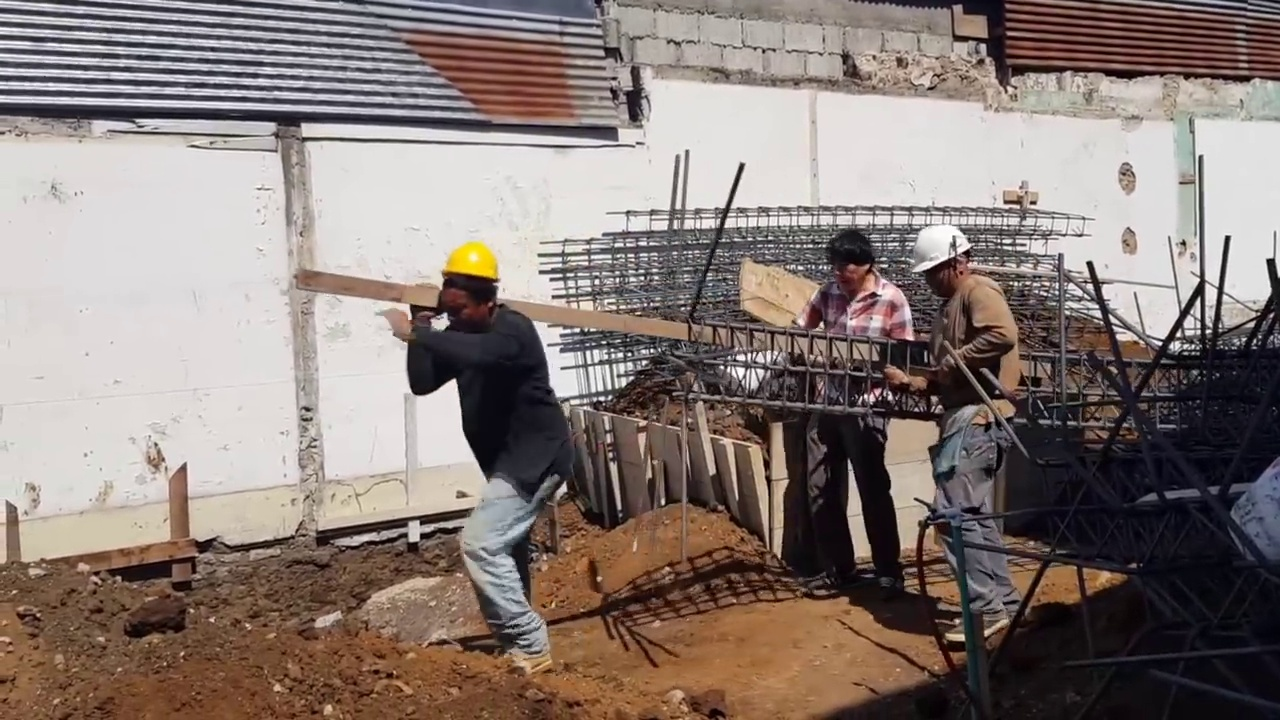helmet: (438, 239, 507, 294), (912, 222, 977, 271)
helmet-off: (828, 227, 879, 294)
helmet-on: (908, 216, 991, 308), (434, 242, 504, 332)
person: (399, 233, 585, 672), (908, 214, 1031, 673), (787, 235, 920, 604)
